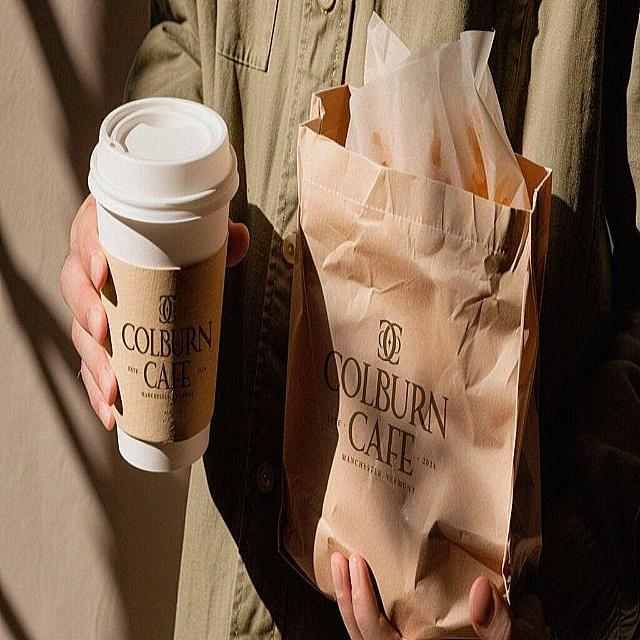paper_cup: (86, 88, 242, 486)
